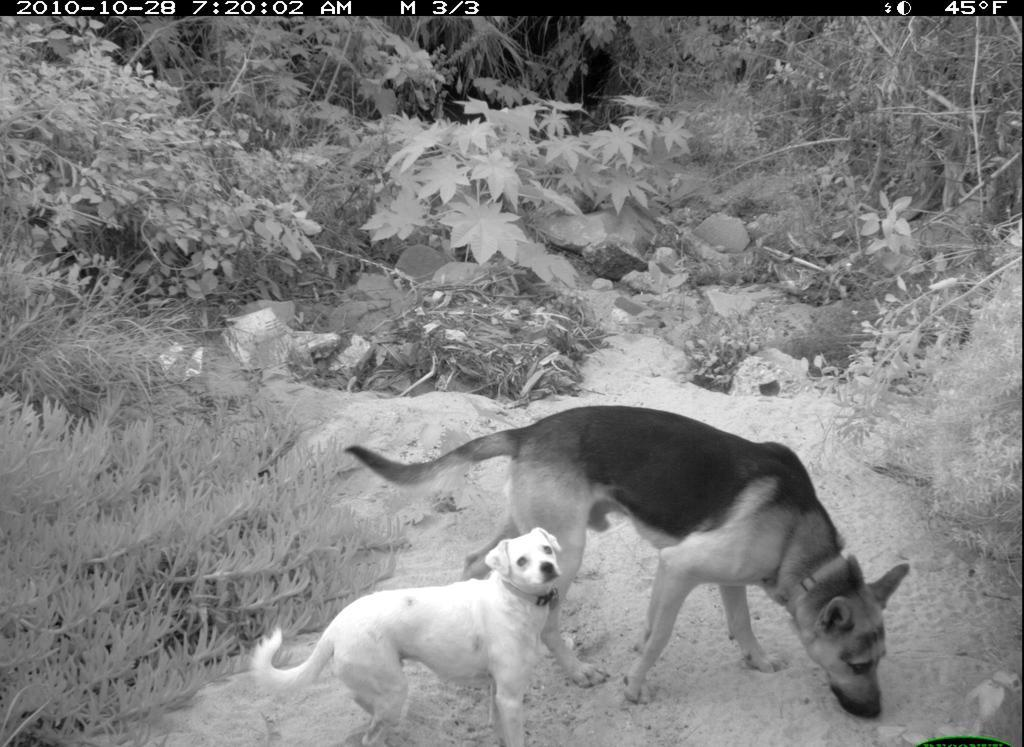dog: (336, 396, 920, 728), (236, 519, 570, 747)
